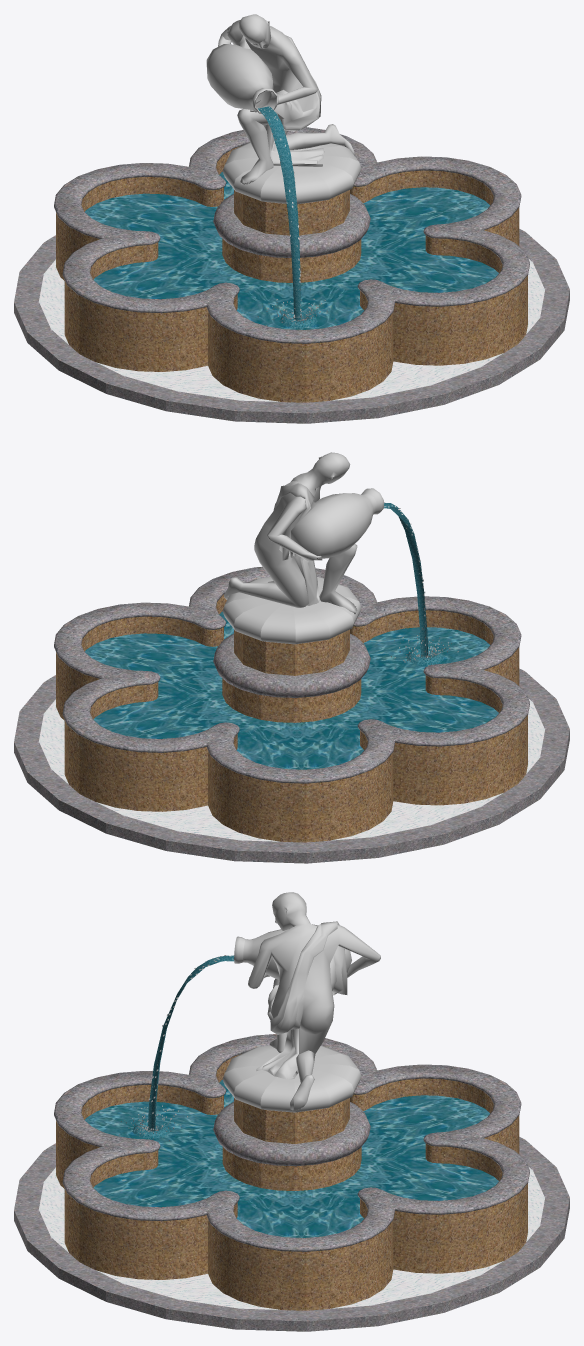
Rendered from fountain.glb.
3 renders of one model, top to bottom at view 1: azimuth 30°, elevation 25°; view 2: azimuth 150°, elevation 25°; view 3: azimuth 270°, elevation 25°, orthographic.
Parts seen in each view (by area): view 1: Object_4, Object_3, Object_8, Object_5, Object_2, Object_6, Object_7; view 2: Object_4, Object_3, Object_8, Object_2, Object_5, Object_6, Object_7; view 3: Object_4, Object_3, Object_8, Object_2, Object_5, Object_6, Object_7.
Part boxes in pixels (x1,y1,x2,y2): Object_4: (56, 146, 527, 402); Object_3: (54, 127, 529, 343); Object_8: (85, 172, 498, 329); Object_5: (14, 229, 569, 423); Object_2: (206, 14, 361, 325); Object_6: (39, 259, 544, 401); Object_7: (258, 106, 317, 328); Object_4: (56, 594, 527, 842); Object_3: (54, 566, 529, 783); Object_8: (85, 611, 498, 769); Object_2: (222, 452, 464, 668); Object_5: (14, 668, 569, 863); Object_6: (39, 698, 544, 841); Object_7: (384, 503, 444, 665); Object_4: (56, 1054, 527, 1310); Object_3: (54, 1034, 529, 1251); Object_8: (85, 1080, 498, 1237); Object_2: (119, 892, 380, 1140); Object_5: (14, 1137, 569, 1331); Object_6: (39, 1167, 544, 1309); Object_7: (132, 955, 234, 1138).
Bounding box in the file's own units: 3.73 × 2.23 × 3.73.
Materials: 7 (6 with a texture image).
